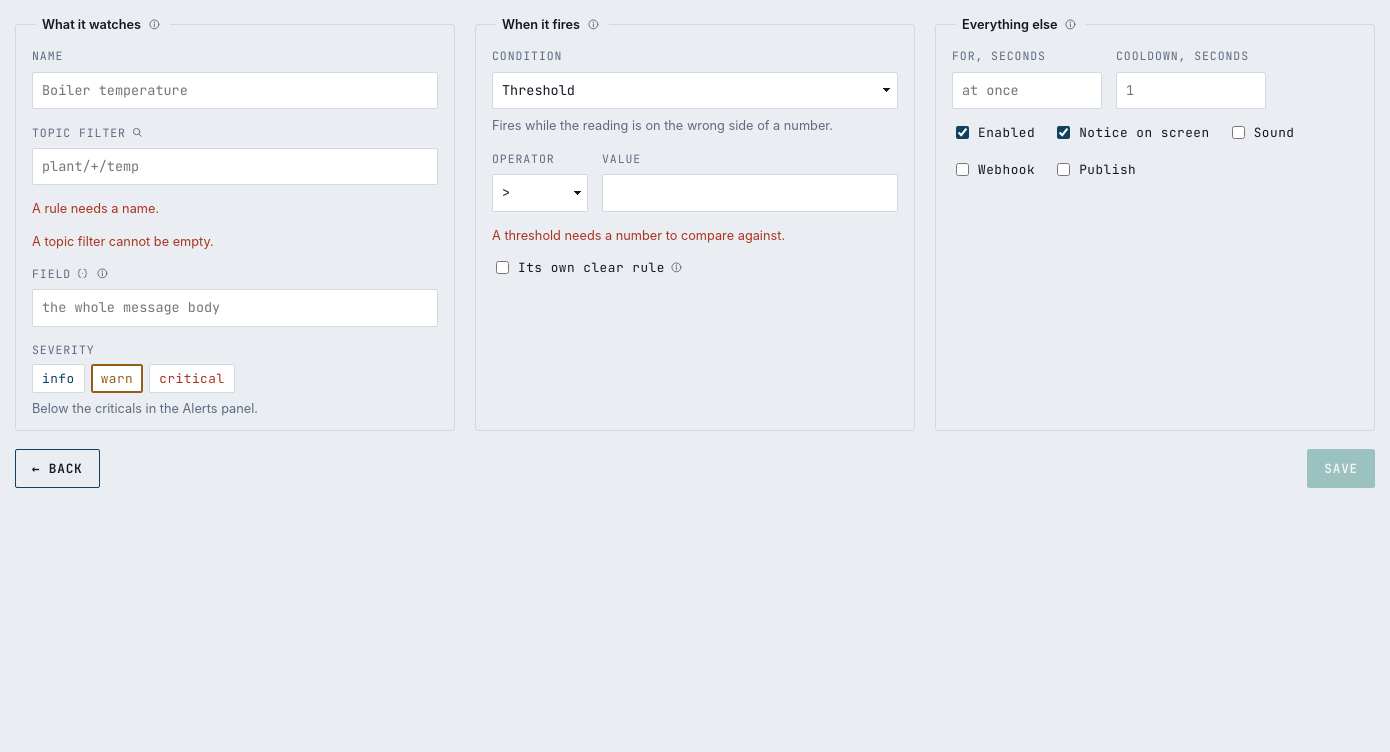
Test: picking a topic filter off the broker › writes a leaf into the filter box as the topic itself
Click the button named "Show topics on the broker": (137, 132) 128,123 -> 146,142
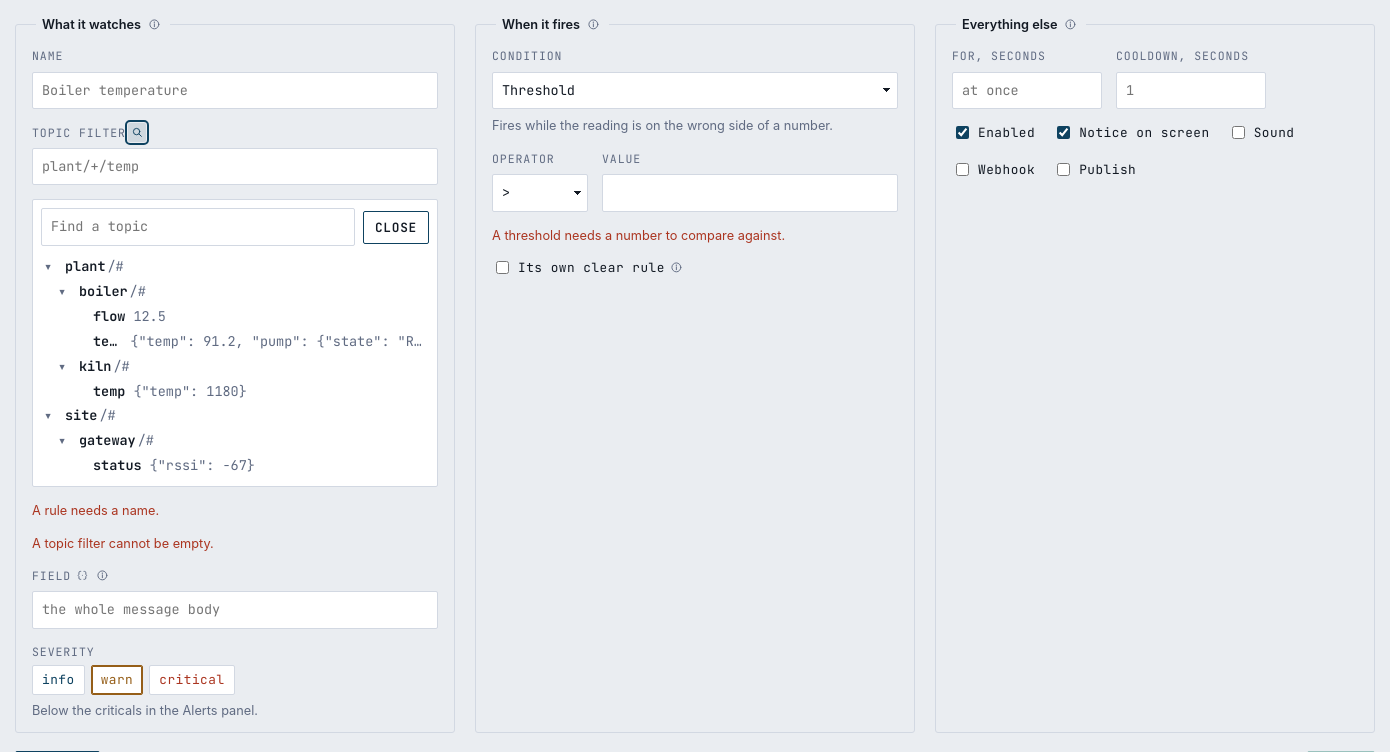
Click the button "temp {\"temp\": 91.2, \"pump\": {\"state\": \"RUN\"}}": (258, 341) 87,329 -> 429,354
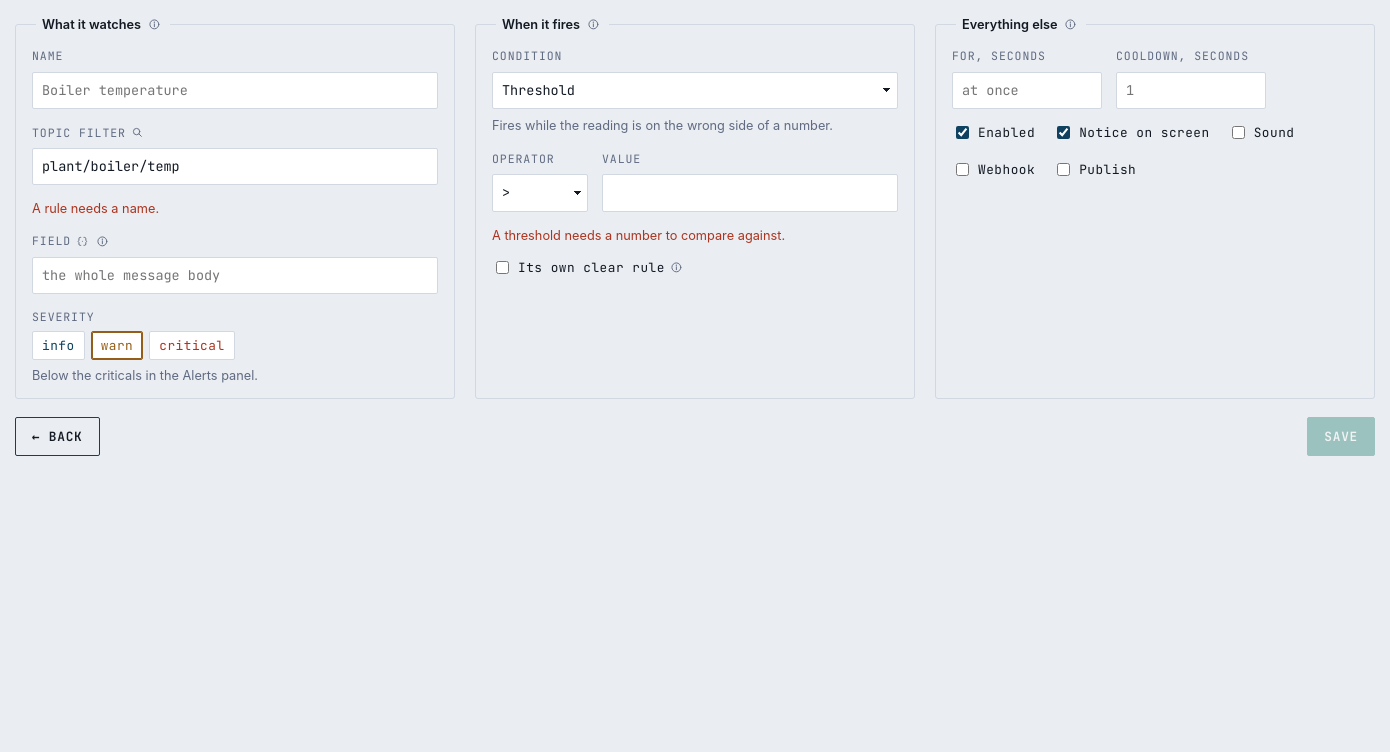
Check: the field labelled "Topic filter" holds "plant/boiler/temp", box 32,148 -> 438,185
